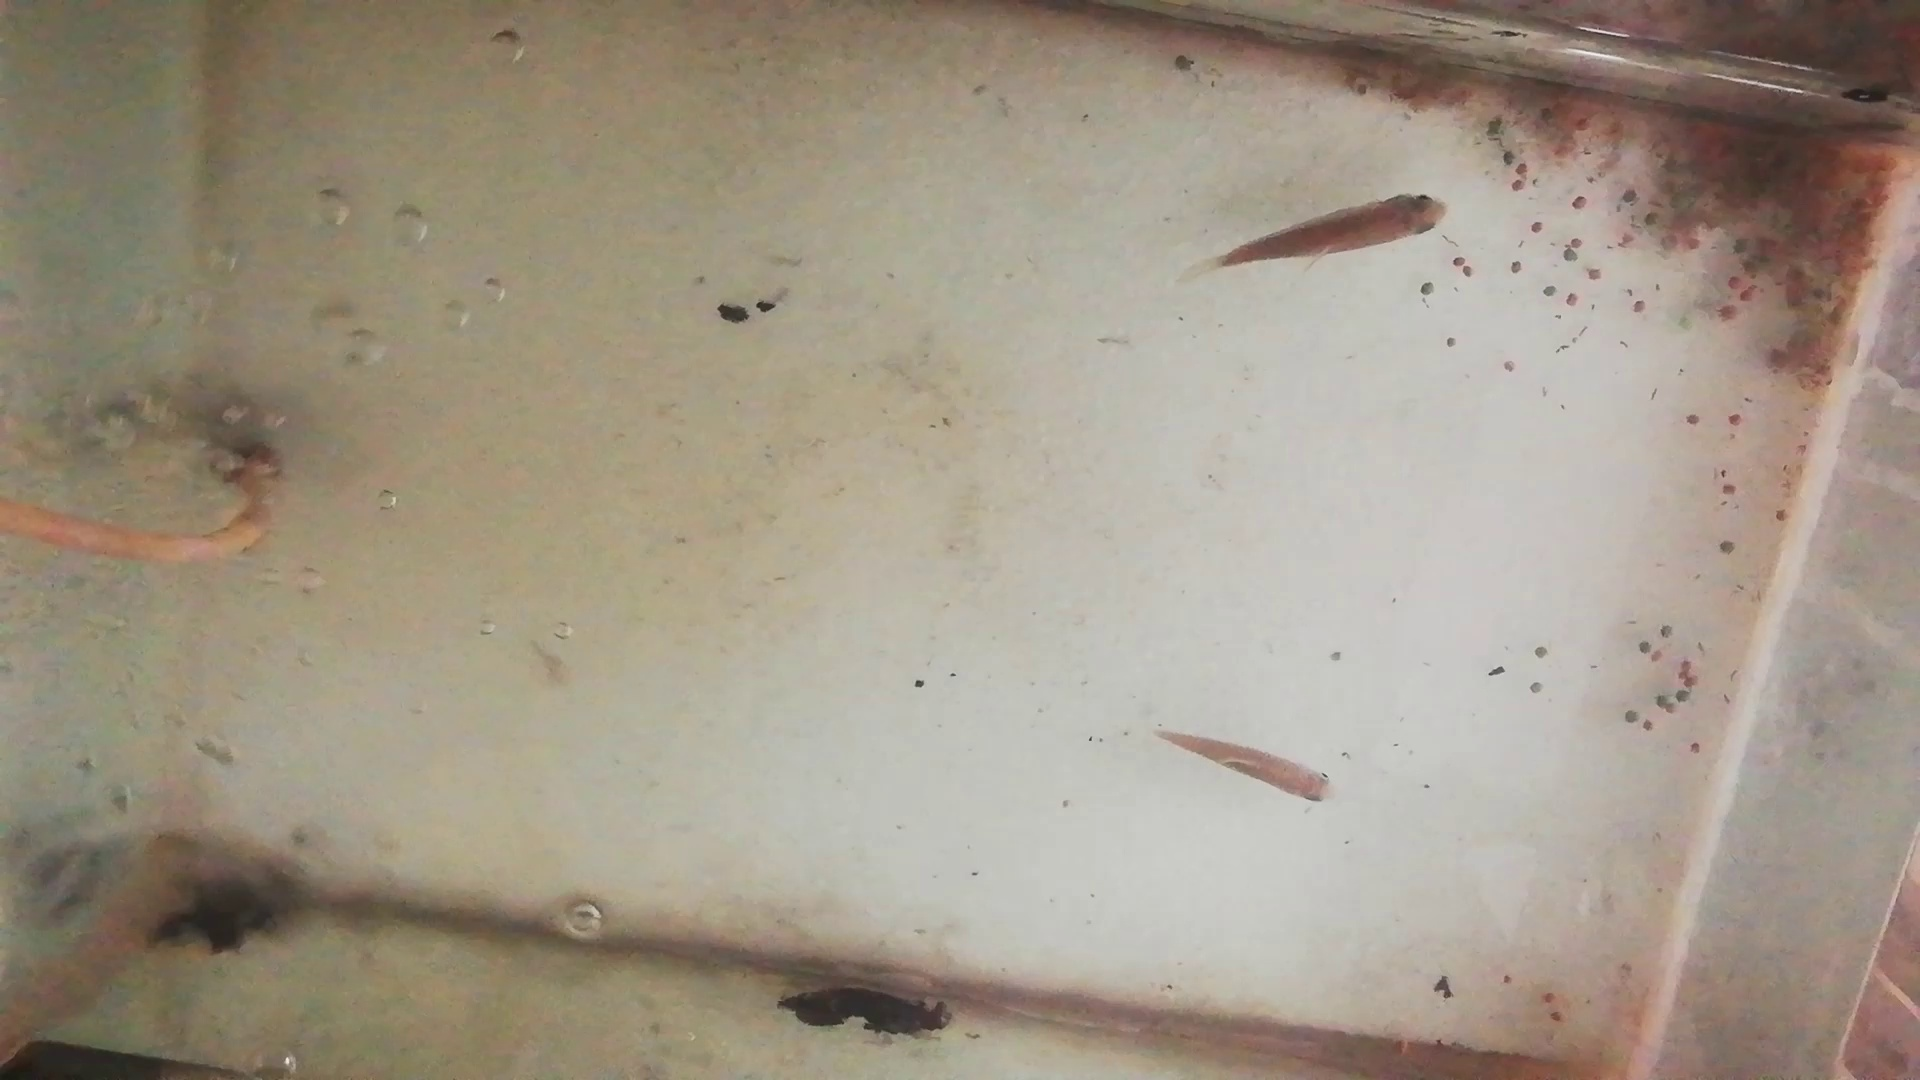fish: (1215, 189, 1449, 266), (1154, 724, 1342, 808)
